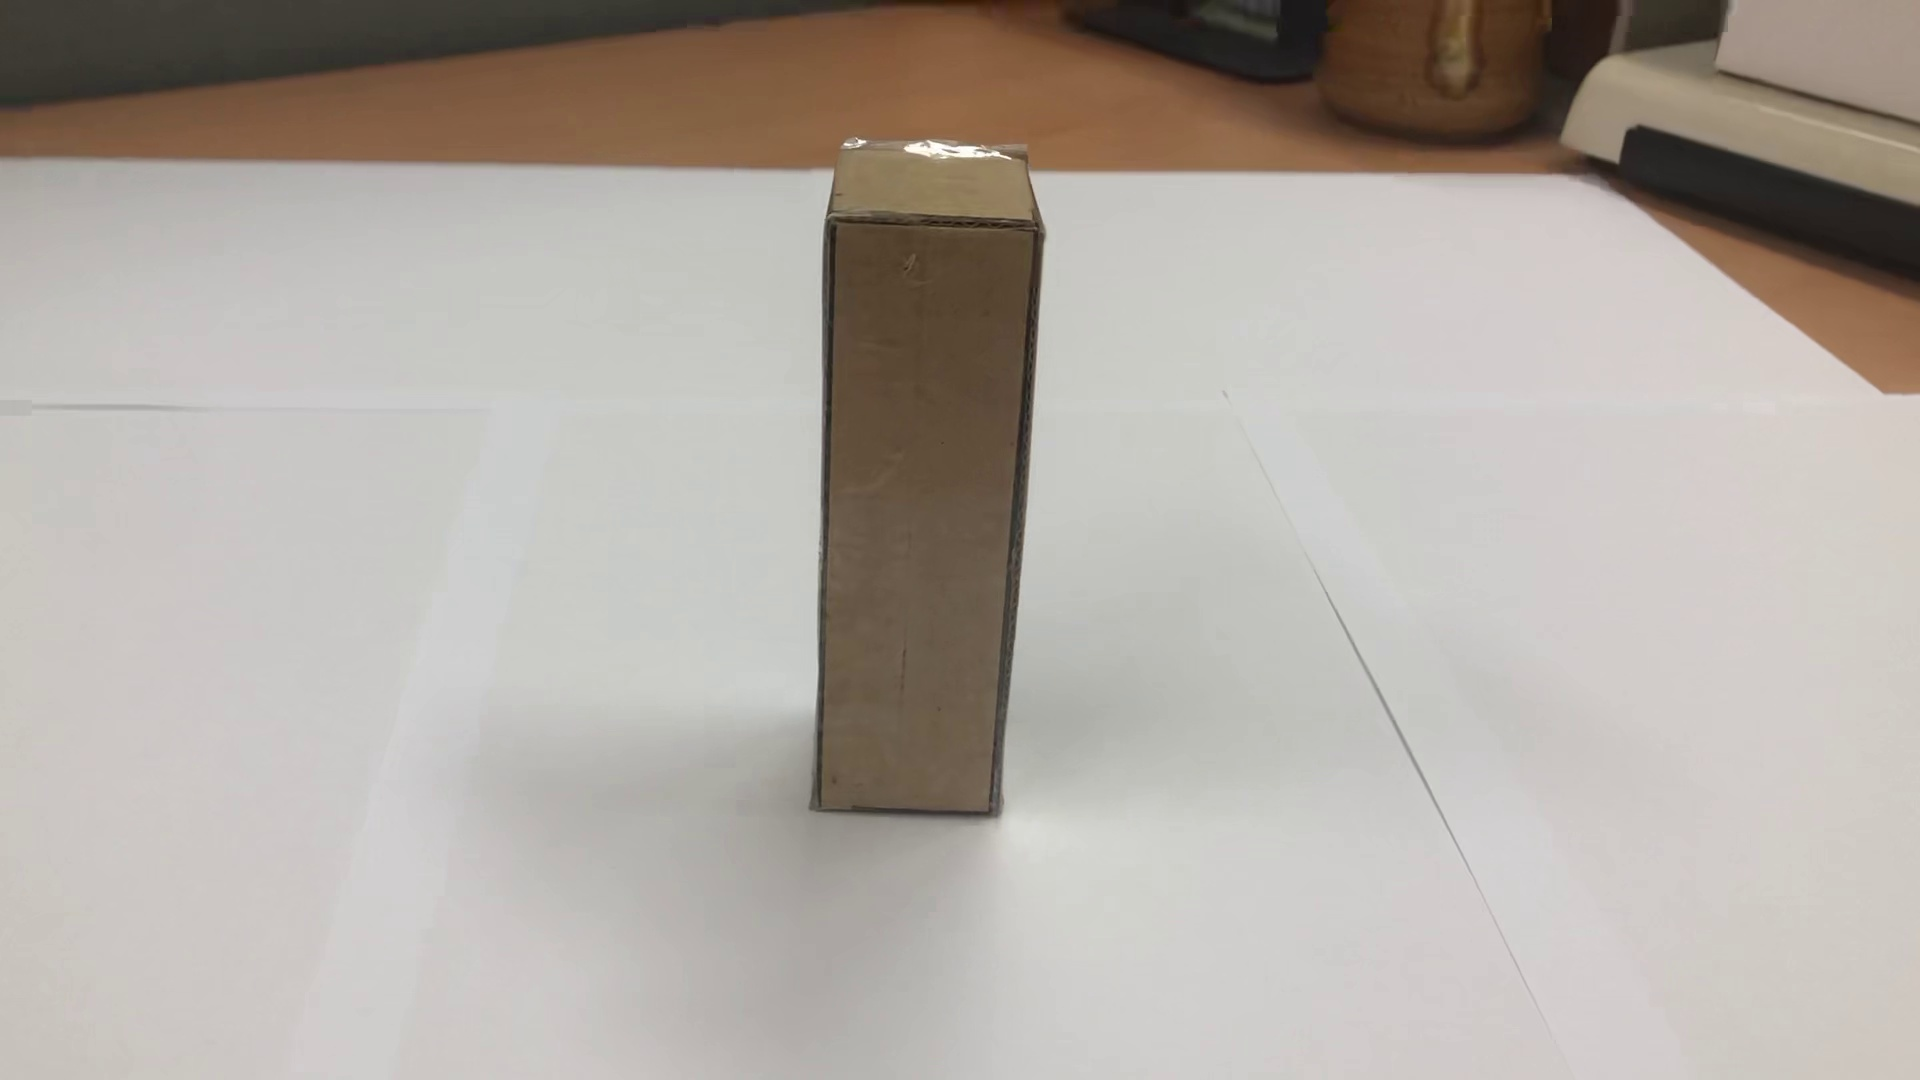box: (760, 65, 1072, 885)
